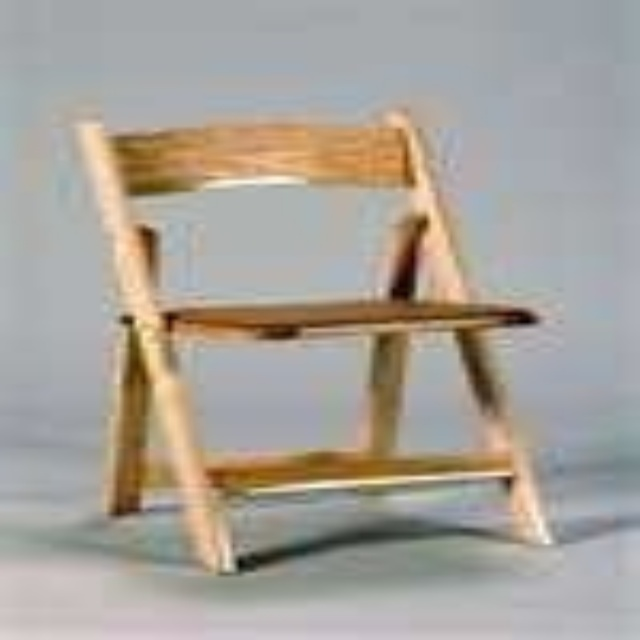obstacle: (77, 124, 550, 568)
